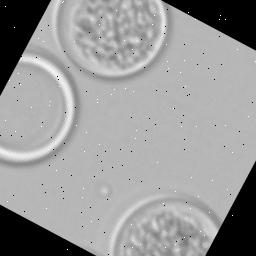picoshell: (51, 0, 169, 77), (0, 53, 74, 161), (114, 197, 220, 256)
